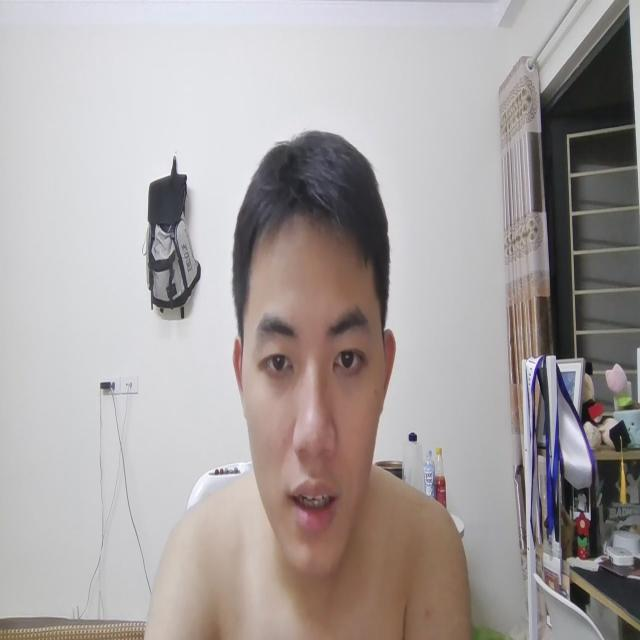student: (148, 126, 469, 640)
